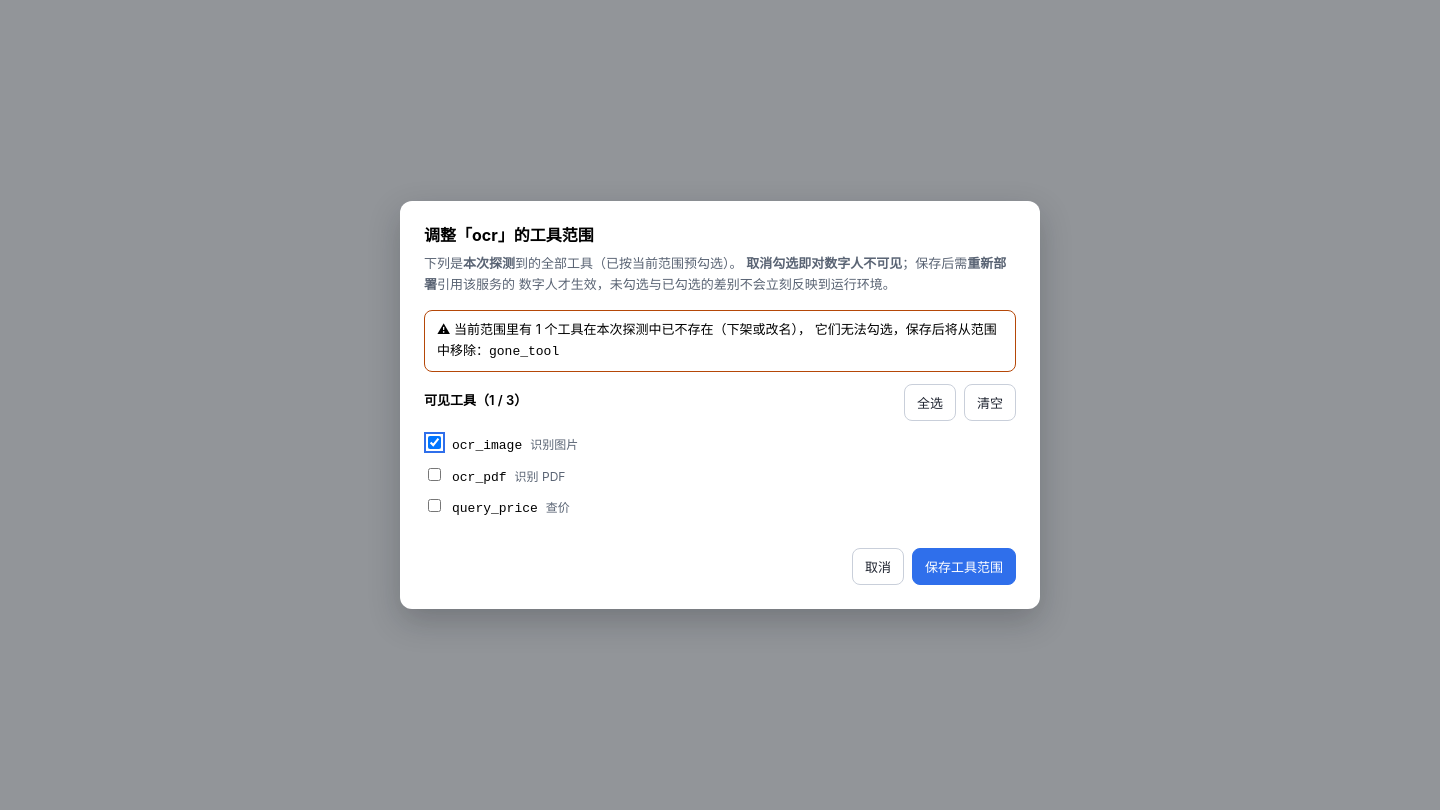
it: McpToolScopeDialog —— 保存 › 全部取消勾选 → 本地拦下、**不发请求**（空范围语义是"不限制"，与"一个都不给"相反）
Click the checkbox with test id "tool" showing "ocr_image 识别图片" at [434, 442], box [428,436,441,449]
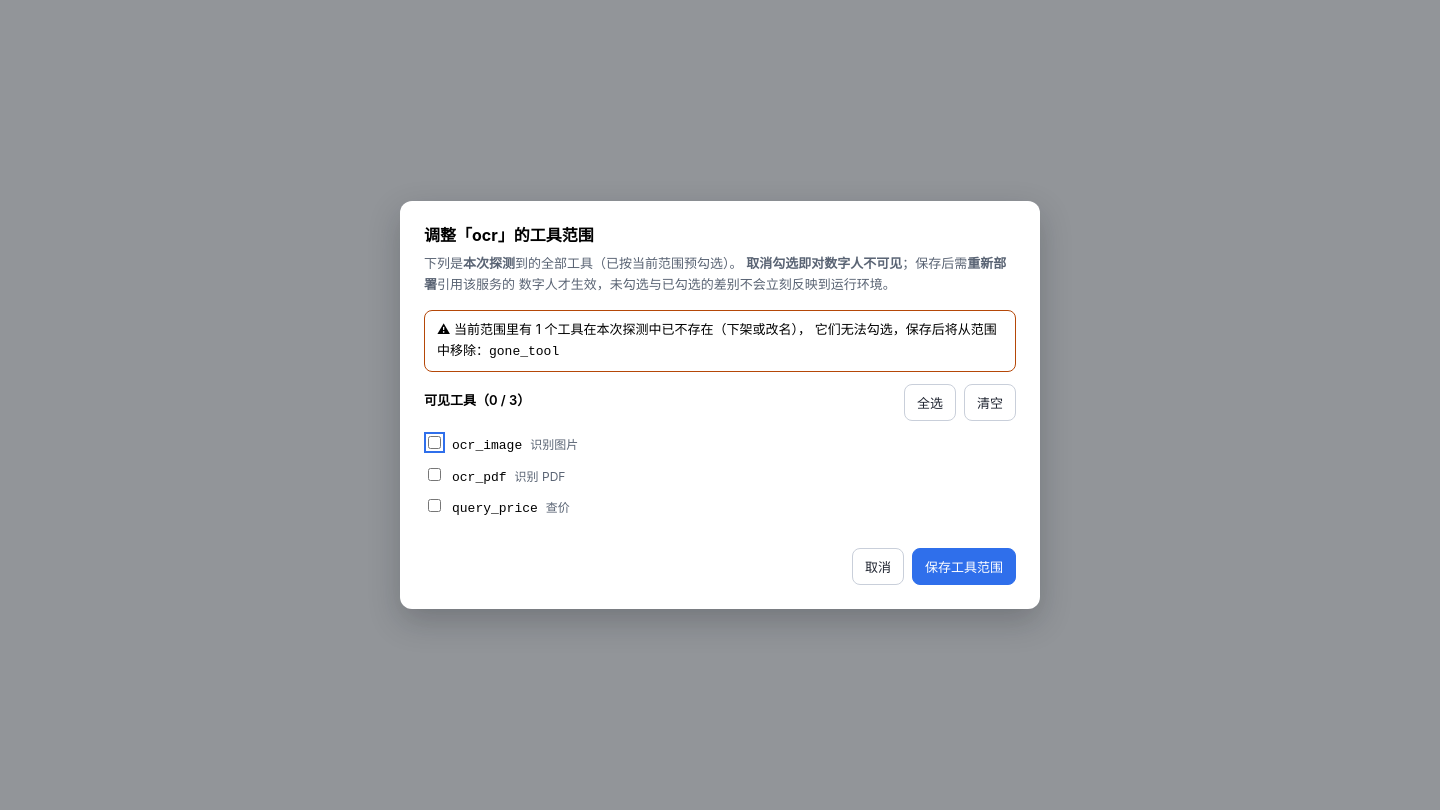
Click the button with test id "save" at [964, 567], box [912,548,1016,585]
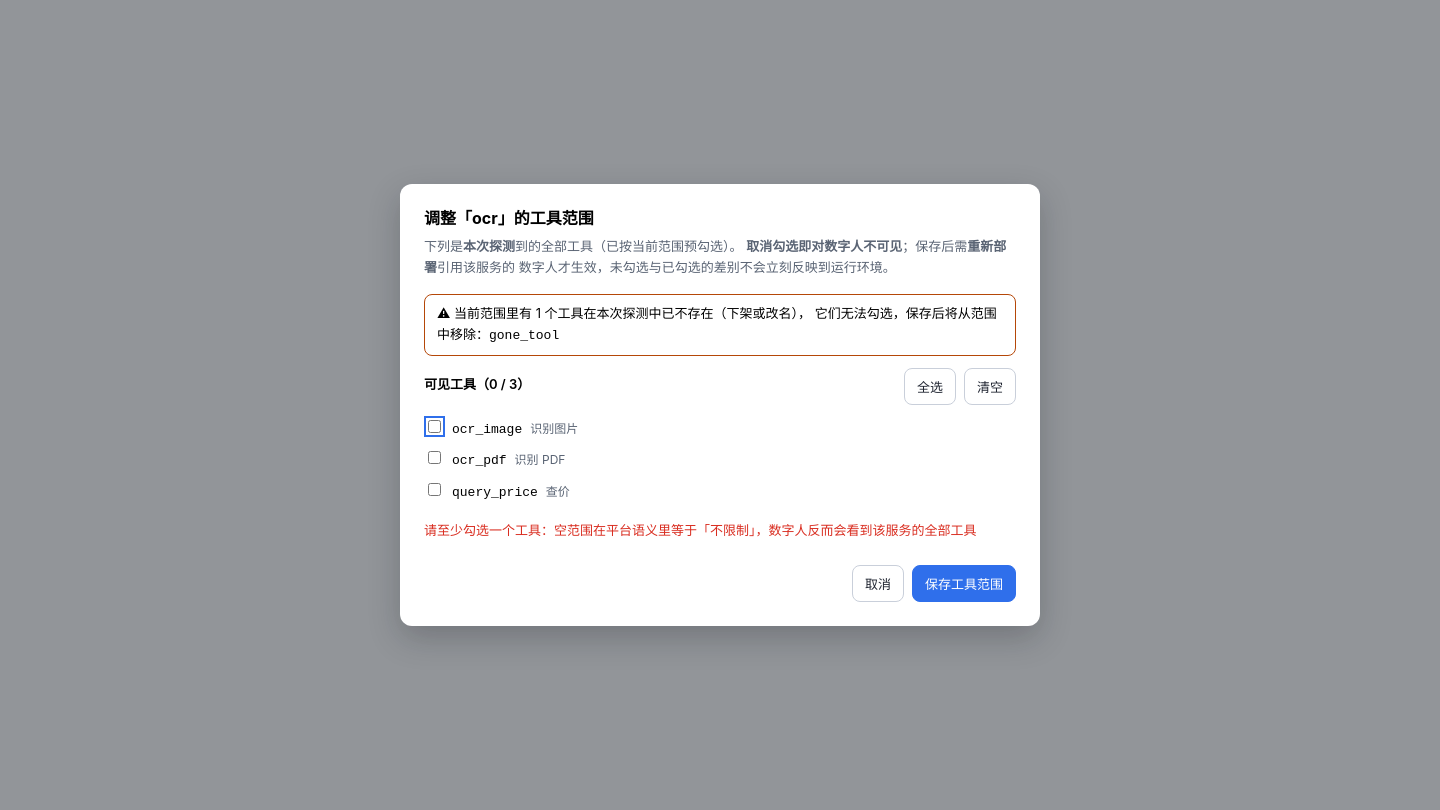
Expected: the message with test id "local-error" shows "不限制", [424,522,976,538]
